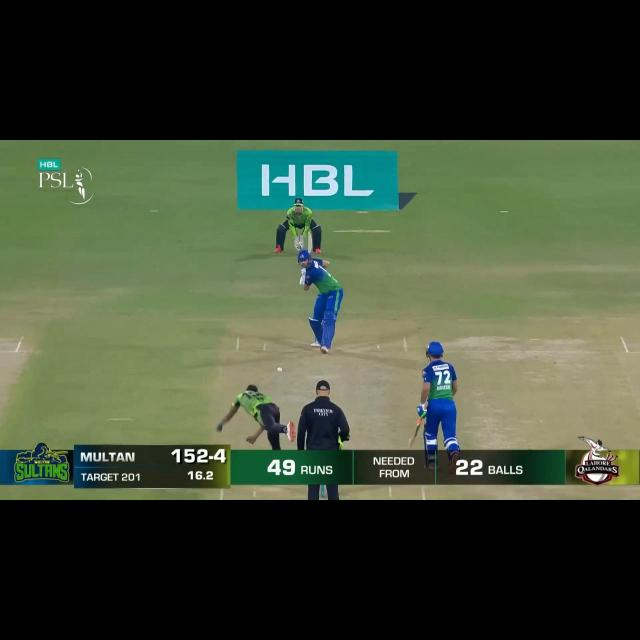bat: (406, 424, 420, 450), (305, 231, 314, 256)
toe: (303, 231, 313, 237), (406, 442, 413, 450)
